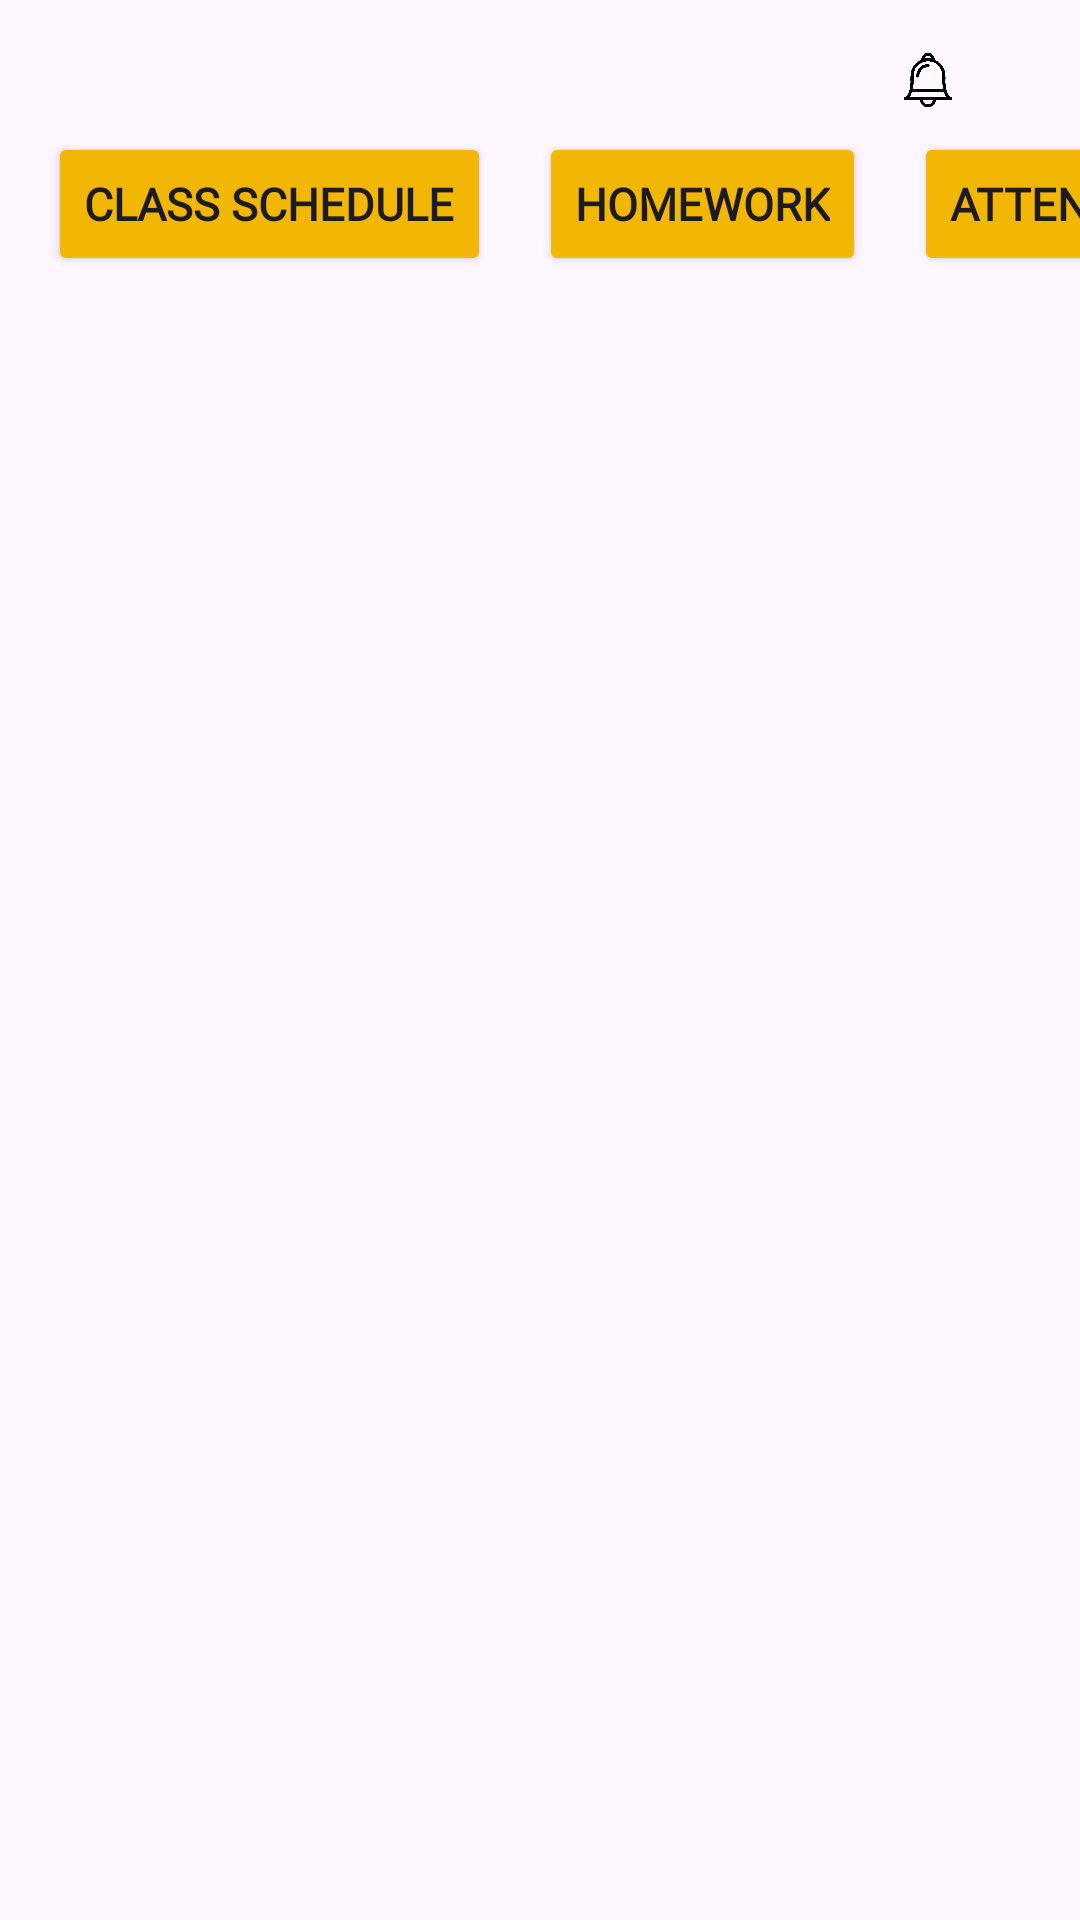

Locate icon controls on the screen. Image size 1080px×1920px, boxes as (left=x1, top=y1, right=x2, bottom=y2).
bellicon: (left=904, top=53, right=952, bottom=107)
